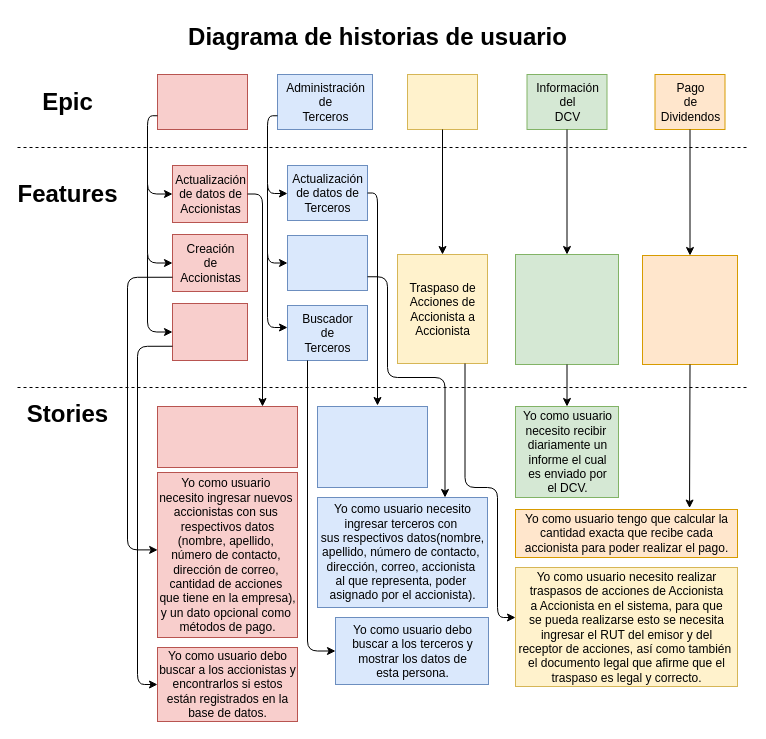
Some shapes in this 766 by 739 pixel diagram are drawn without their labels. Here are the shapes that lost their labels. From the top down, the box of each, then its label:
(156, 74, 248, 130): Administración de Accionistas
(406, 74, 478, 130): Traspaso de Acciones
(286, 234, 368, 290): Creación de Terceros
(514, 254, 618, 364): Recibimiento diario de informe del DCV
(642, 254, 738, 364): Calculo de dividendos que recibirá cada Accionista
(172, 302, 248, 360): Buscador de Accionistas
(156, 406, 298, 468): Yo como usuario necesito mantener actualizados los datos de los accionistas
(316, 406, 428, 488): Yo como usuario necesito mantener actualizados los datos de los terceros.
